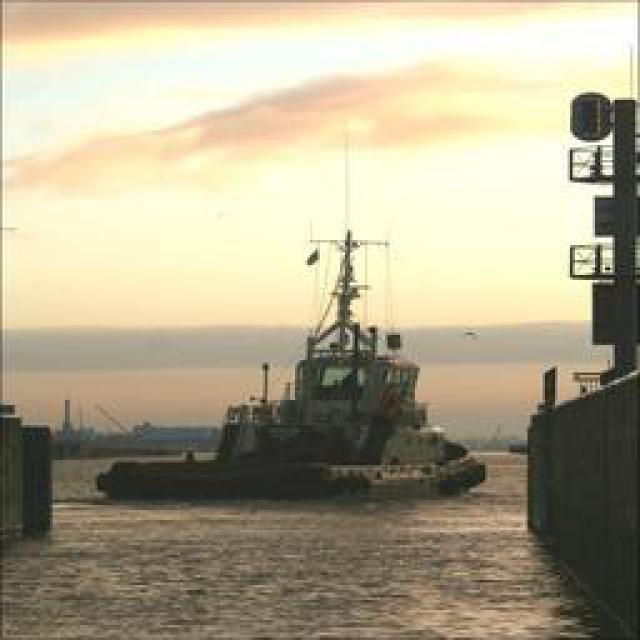Ship: (111, 206, 469, 501)
